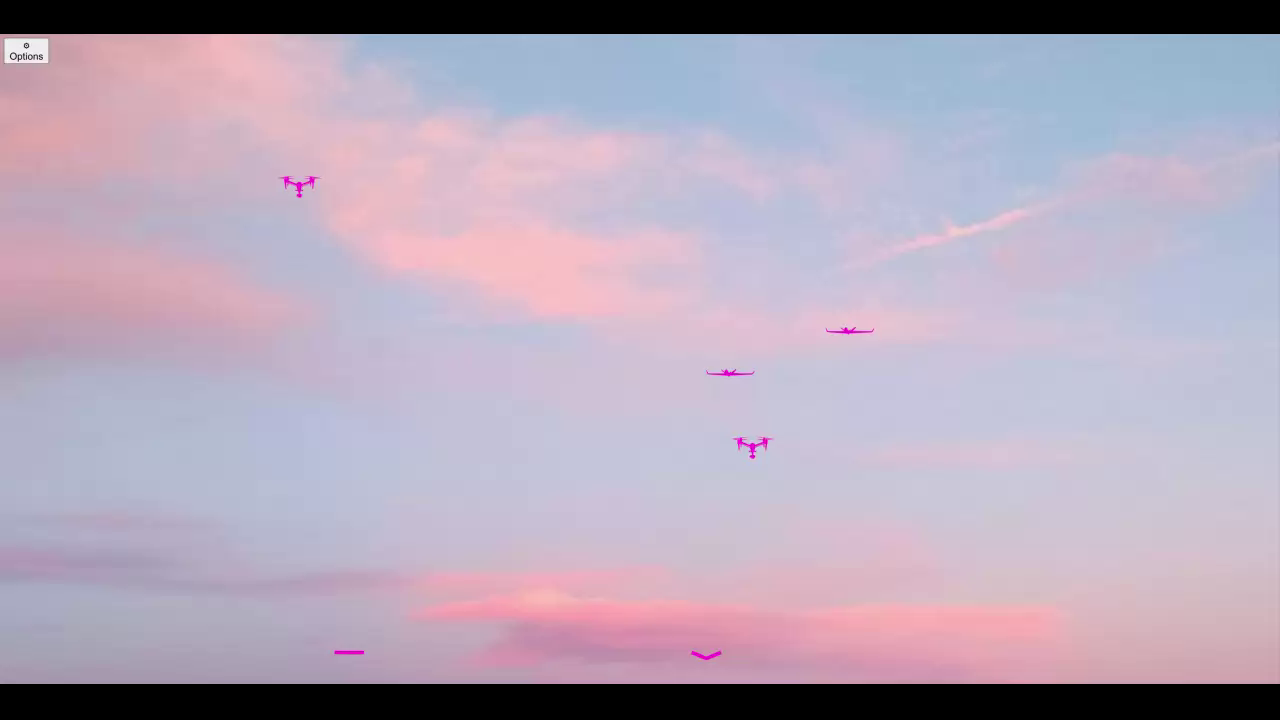Bird: (679, 635, 742, 674), (317, 633, 383, 666)
Drone: (810, 313, 883, 344), (693, 358, 767, 388)
Quadcopter: (263, 155, 330, 200), (723, 424, 787, 466)
